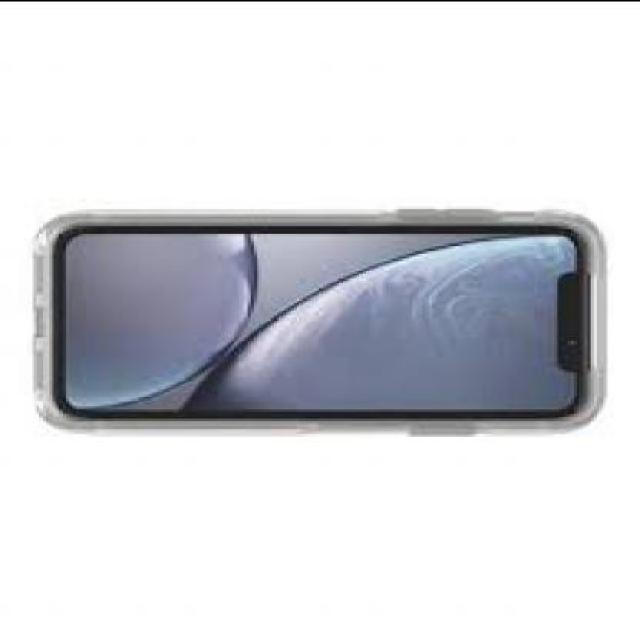mobile: (32, 211, 606, 432)
